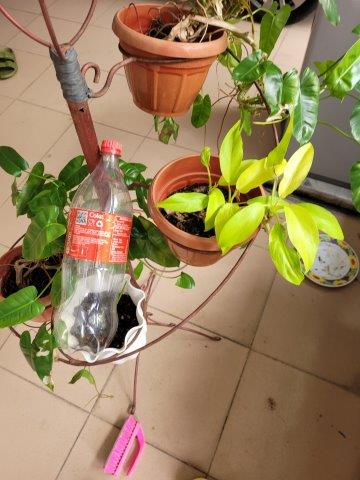botolplastik: (62, 140, 133, 351)
